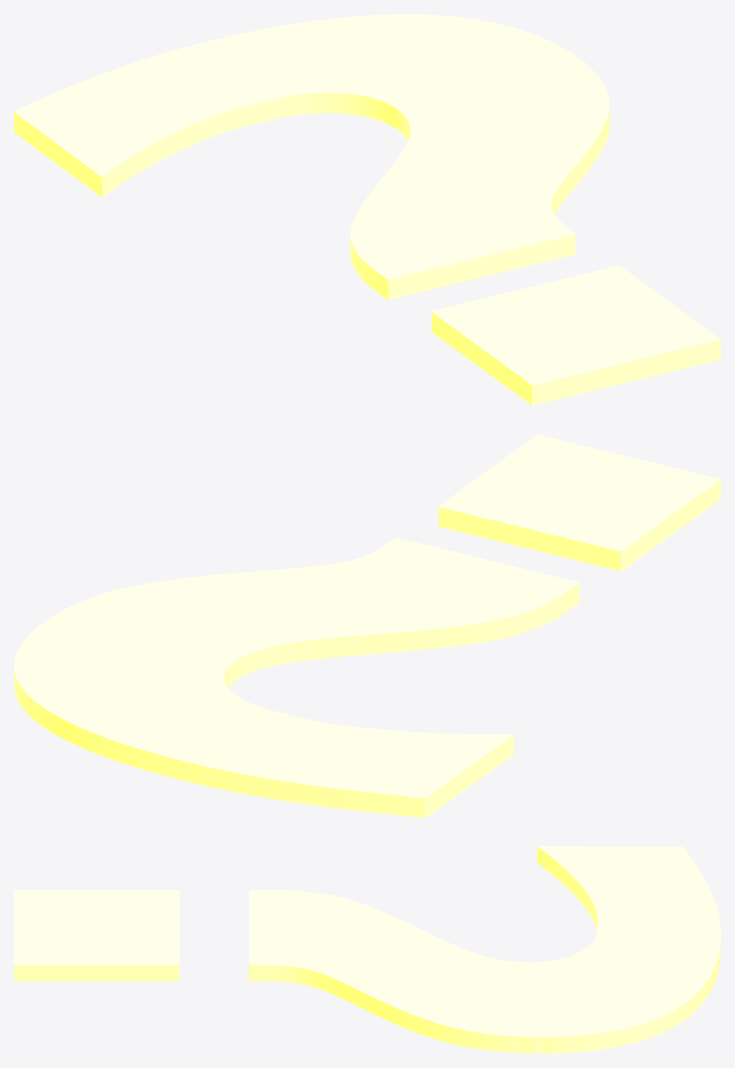
3 views of the same model, one above another, from view 1: azimuth 30°, elevation 25°; view 2: azimuth 150°, elevation 25°; view 3: azimuth 270°, elevation 25° (orthographic). The views are drawn at different scales.
Parts seen in each view (by area): view 1: Curve.004; view 2: Curve.004; view 3: Curve.004.
Part boxes in pixels (left/top/right/bottom): Curve.004: left=14, top=14, right=720, bottom=405; Curve.004: left=14, top=434, right=720, bottom=817; Curve.004: left=14, top=846, right=720, bottom=1053.
Size of the model in its own units: 15.02 by 0.6028 by 23.51.
